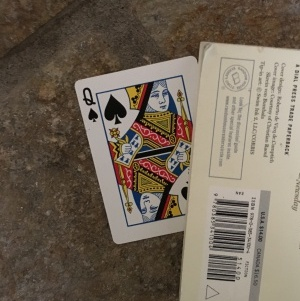card: (74, 55, 201, 246)
